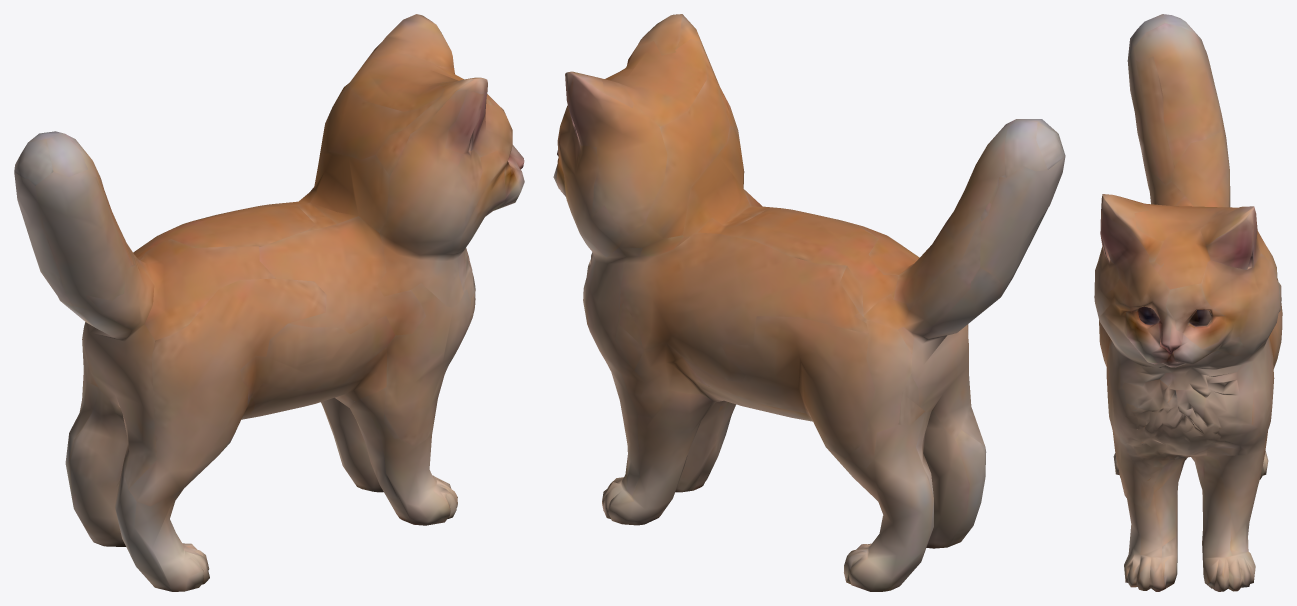
File: PRINCEKIT-lo.glb
3 views of the same model, side by side, from view 1: azimuth 30°, elevation 25°; view 2: azimuth 150°, elevation 25°; view 3: azimuth 270°, elevation 25° (orthographic). The views are drawn at different scales.
Parts seen in each view (by area): view 1: material; view 2: material; view 3: material.
Boxes of the visible parts, box(x1,y1,x2,y2) form: material: box(14, 14, 524, 591); material: box(553, 14, 1065, 591); material: box(1094, 14, 1282, 591).
Bounding box in the file's own units: 1.14 × 0.9952 × 0.4156.
Materials: 1 (1 with a texture image).
